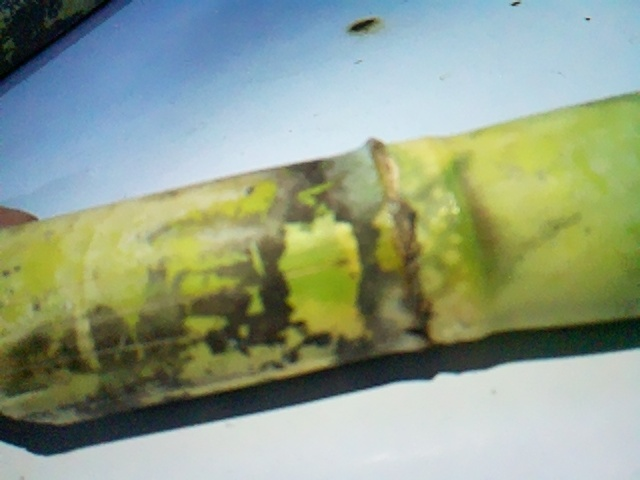Good Sugarcane: (3, 90, 640, 428), (2, 0, 109, 83)
Node: (361, 127, 466, 363)
